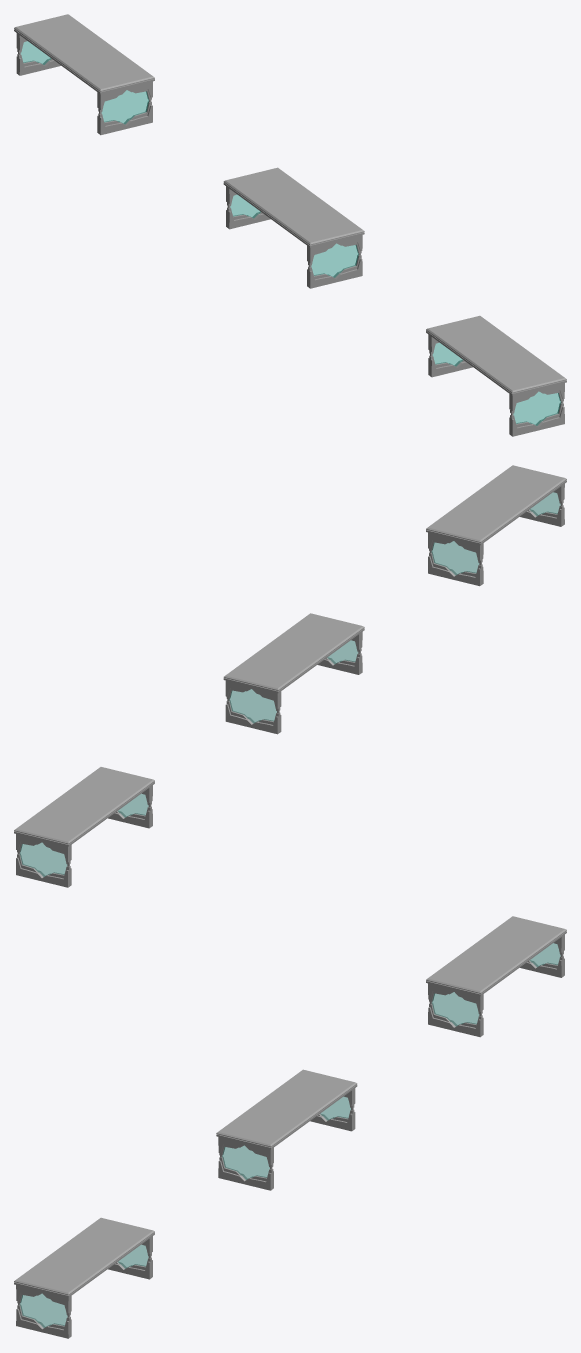
The model's file is geo_bank.fbx.
3 renders of one model, top to bottom at view 1: azimuth 30°, elevation 25°; view 2: azimuth 150°, elevation 25°; view 3: azimuth 330°, elevation 25°, orthographic.
Parts seen in each view (by area): view 1: geo_bank; view 2: geo_bank; view 3: geo_bank.
Boxes of the visible parts, x1,y1,x2,y2 form: geo_bank: (14, 14, 566, 436); geo_bank: (14, 465, 566, 887); geo_bank: (14, 916, 566, 1338).
Bounding box in the file's own units: 71.52 × 57.87 × 1128.
